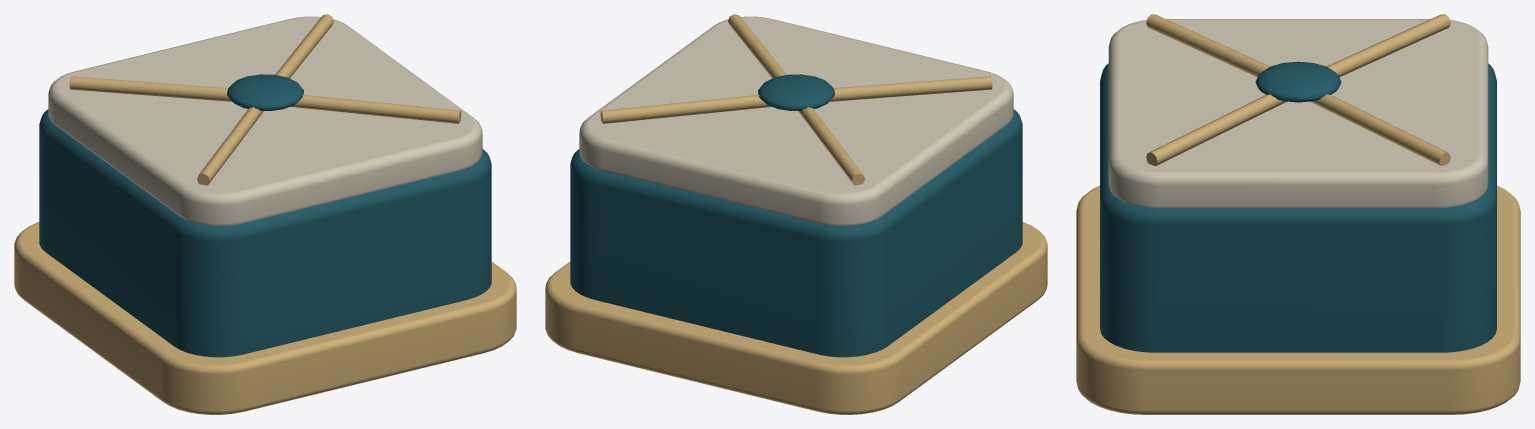
File: echo_obstacle_atelier.glb
3 renders of one model, left to right at view 1: azimuth 30°, elevation 25°; view 2: azimuth 150°, elevation 25°; view 3: azimuth 270°, elevation 25°, orthographic. The views are drawn at different scales.
Parts seen in each view (by area): view 1: echo_obstacle_atelier__Painted_echo_obstacle_atelier_Glaze, echo_obstacle_atelier__Painted_echo_obstacle_atelier_Metal; view 2: echo_obstacle_atelier__Painted_echo_obstacle_atelier_Glaze, echo_obstacle_atelier__Painted_echo_obstacle_atelier_Metal; view 3: echo_obstacle_atelier__Painted_echo_obstacle_atelier_Glaze, echo_obstacle_atelier__Painted_echo_obstacle_atelier_Metal.
Boxes of the visible parts, bbox=[...] form: echo_obstacle_atelier__Painted_echo_obstacle_atelier_Glaze: bbox=[39, 16, 491, 357]; echo_obstacle_atelier__Painted_echo_obstacle_atelier_Metal: bbox=[14, 14, 516, 414]; echo_obstacle_atelier__Painted_echo_obstacle_atelier_Glaze: bbox=[570, 16, 1022, 357]; echo_obstacle_atelier__Painted_echo_obstacle_atelier_Metal: bbox=[545, 14, 1047, 414]; echo_obstacle_atelier__Painted_echo_obstacle_atelier_Glaze: bbox=[1100, 19, 1496, 352]; echo_obstacle_atelier__Painted_echo_obstacle_atelier_Metal: bbox=[1076, 14, 1520, 414].
Bounding box in the file's own units: 1.03 × 0.642 × 1.03.
